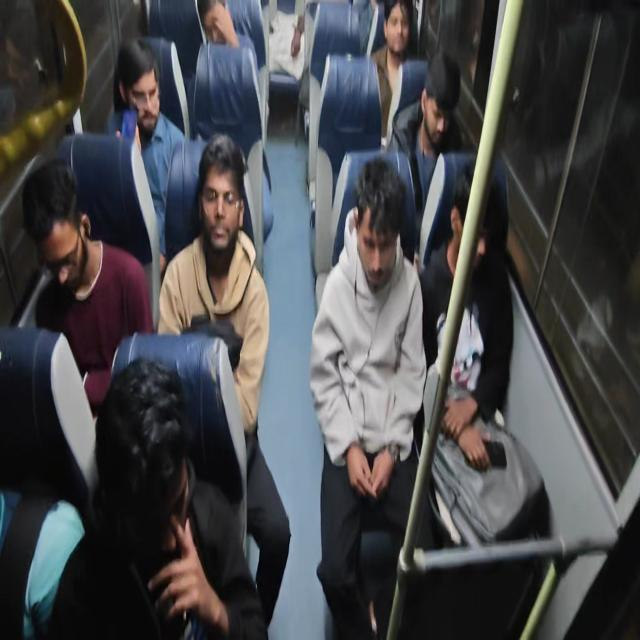person: (101, 353, 203, 568), (17, 144, 106, 306), (351, 156, 413, 299), (446, 159, 512, 287), (110, 28, 167, 152), (192, 136, 246, 256), (421, 55, 464, 163), (194, 0, 239, 55), (384, 1, 411, 62)
